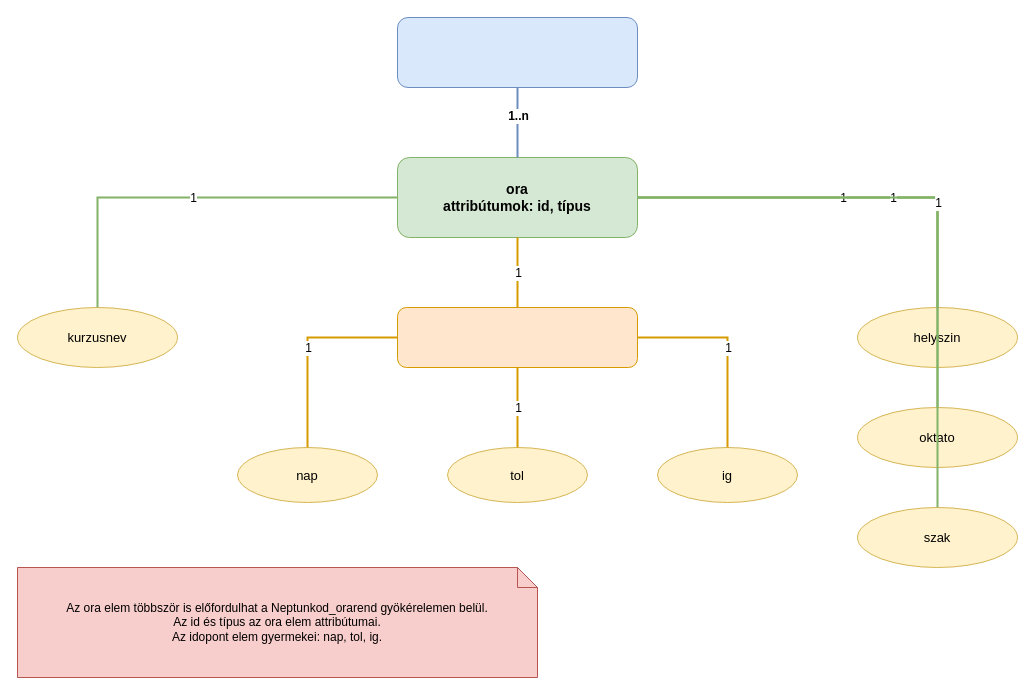
Some shapes in this 1035 by 695 pixel diagram are drawn without their labels. The centre of each missing label's shape, as x and y in pixels:
"idopont" goes at point (517, 337).
"Neptunkod_orarend (gyökérelem)" goes at point (517, 52).
